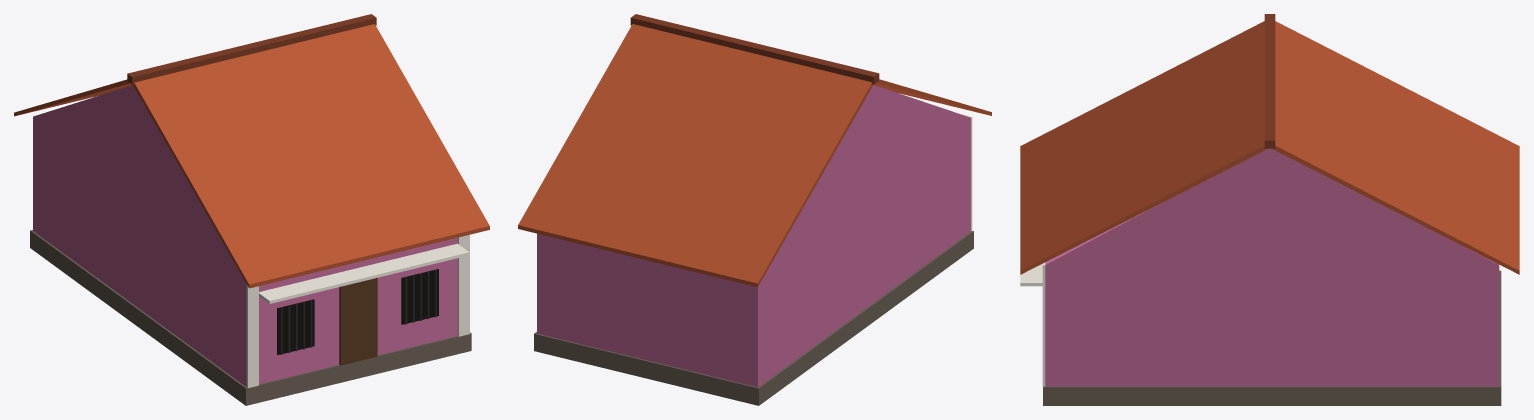
Rendered from bld_ot_house_06.glb.
The picture shows the model from 3 angles, left to right: view 1: azimuth 30°, elevation 25°; view 2: azimuth 150°, elevation 25°; view 3: azimuth 270°, elevation 25°; orthographic projection. The views are drawn at different scales.
Parts seen in each view (by area): view 1: bld_ot_house_06; view 2: bld_ot_house_06; view 3: bld_ot_house_06.
Boxes of the visible parts, x1=… form: bld_ot_house_06: x1=14, y1=14, x2=489, y2=405; bld_ot_house_06: x1=518, y1=14, x2=991, y2=405; bld_ot_house_06: x1=1020, y1=14, x2=1519, y2=405.
Size of what is drawn, in the model's own units: 6.6 by 6.57 by 11.
